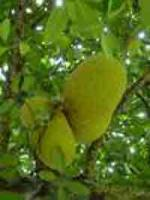jackfruit: (62, 56, 126, 143), (38, 105, 76, 171)
